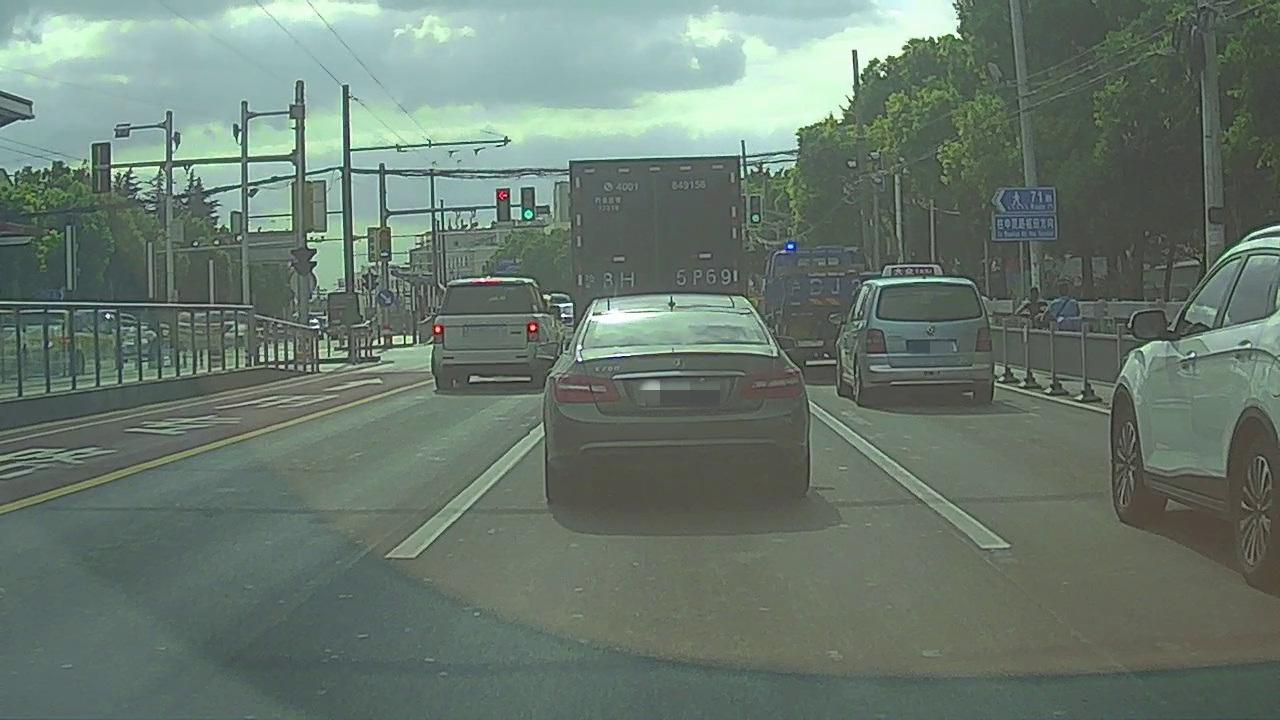traffic_light: (497, 188, 512, 222), (523, 188, 536, 220), (750, 194, 761, 224)
